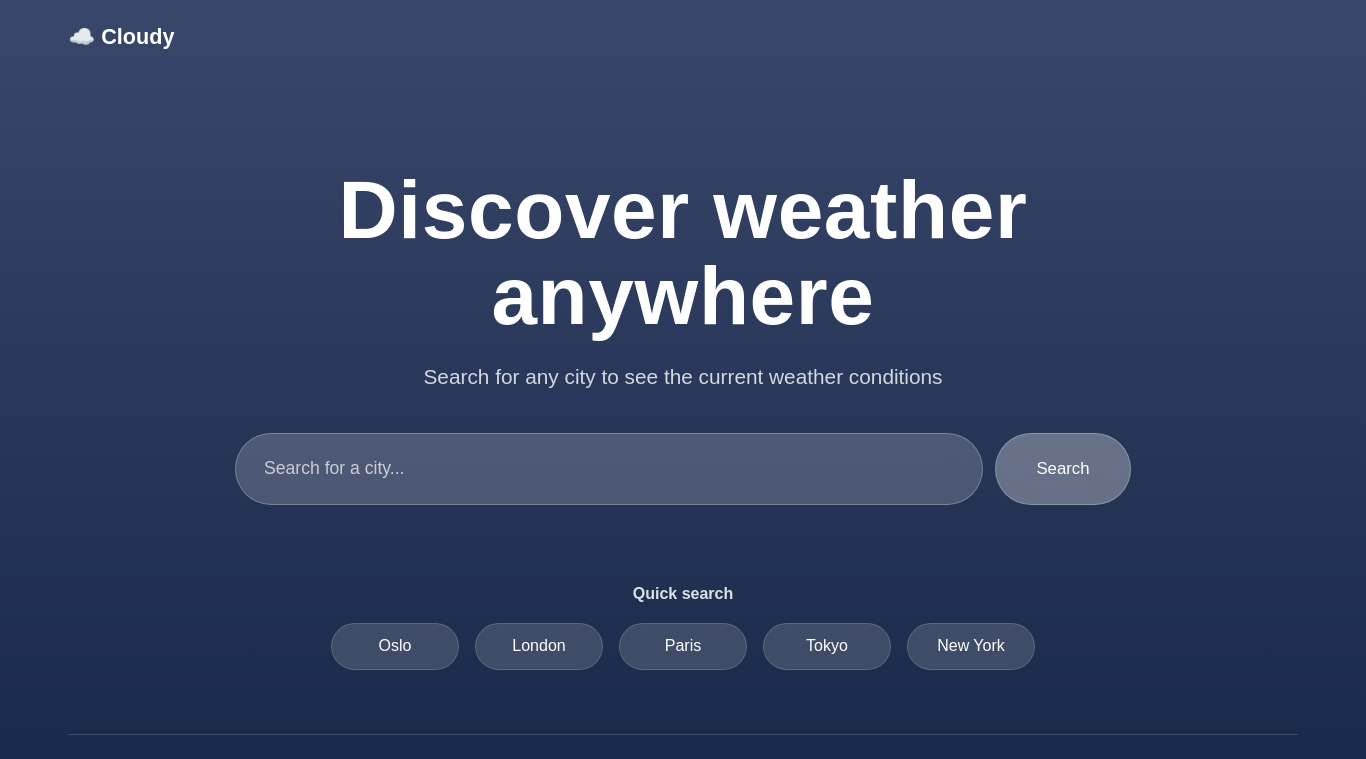
Test: App › displays weather returned by the services
Type "Oslo" into the dropdown at (609, 469), box 235,433 -> 983,505
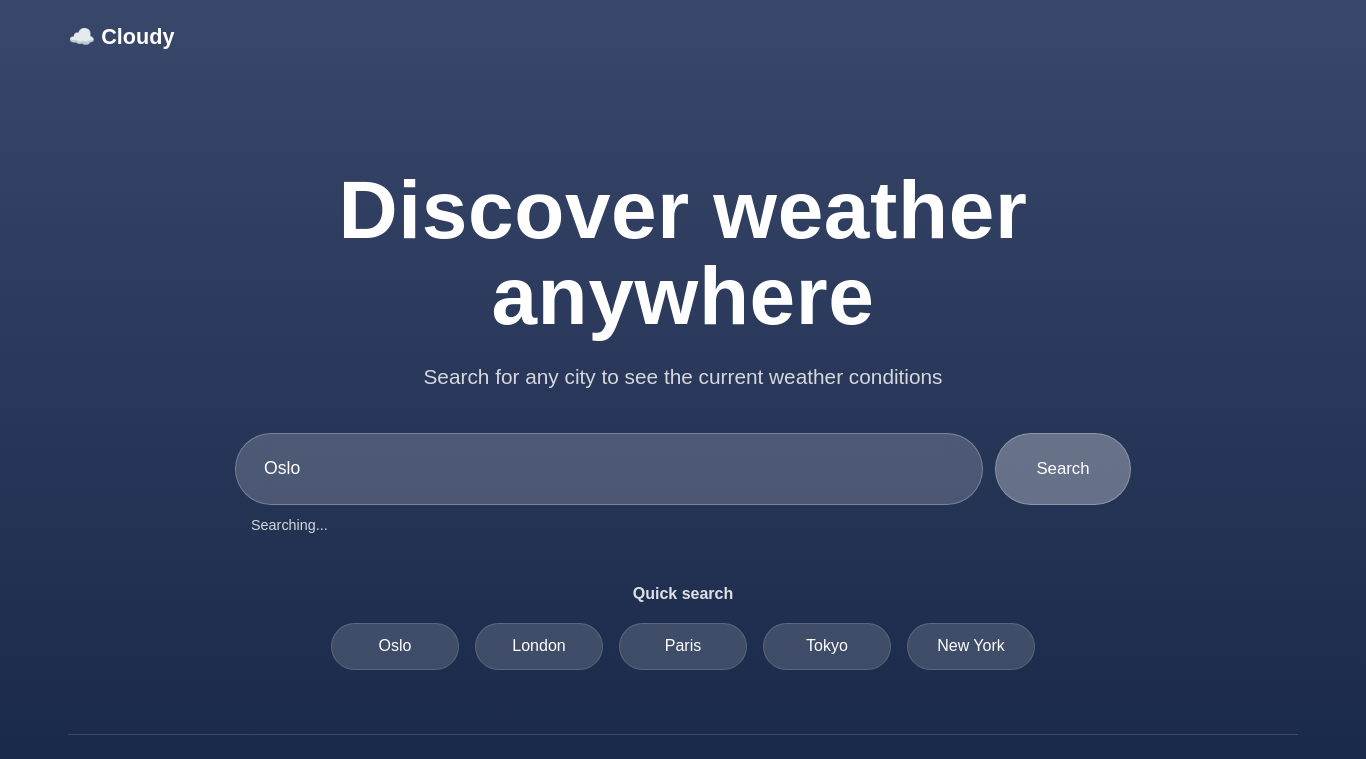
Click the button "Search" at (1063, 469), box 995,433 -> 1131,505
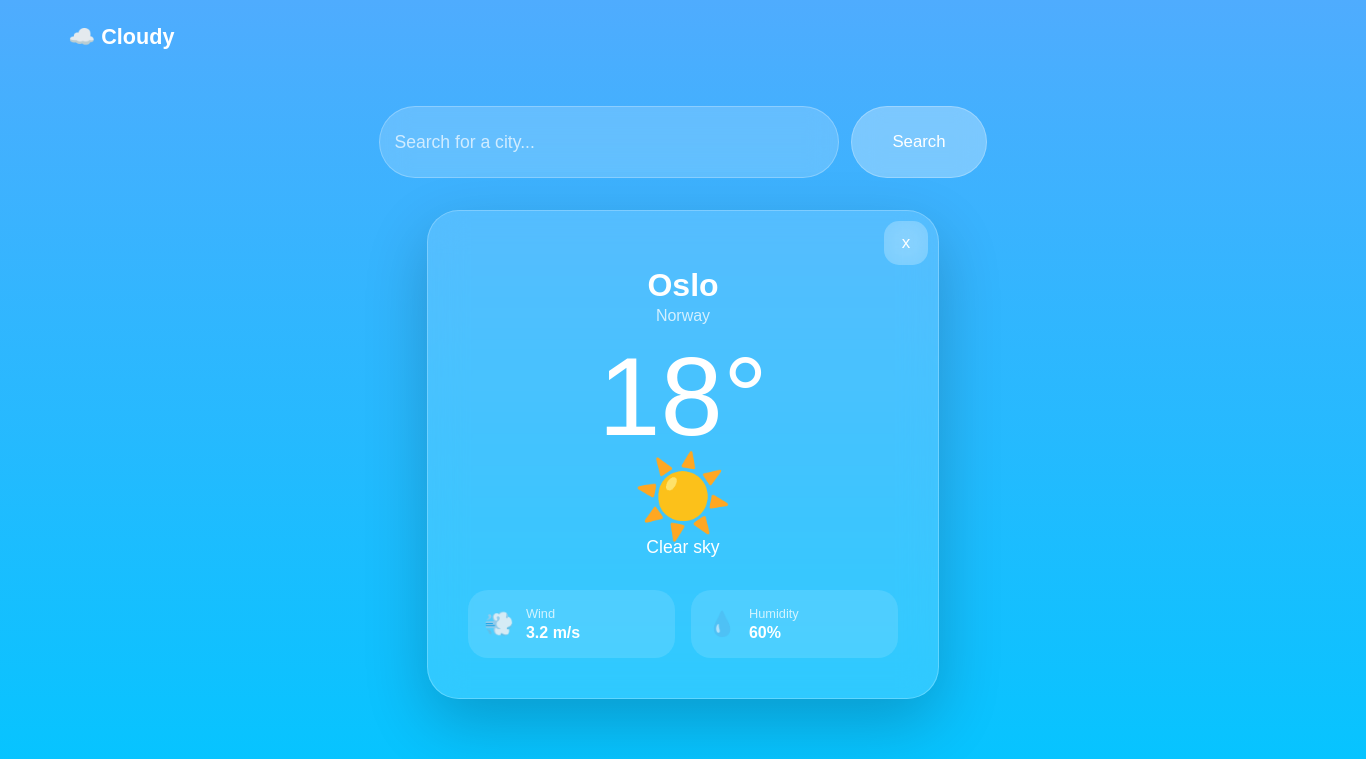
Expected: the text "Norway" is shown, 656,307 -> 710,324
Expected: the text "18°" is shown, 598,334 -> 768,459
Expected: the text "Clear sky" is shown, 646,537 -> 720,557
